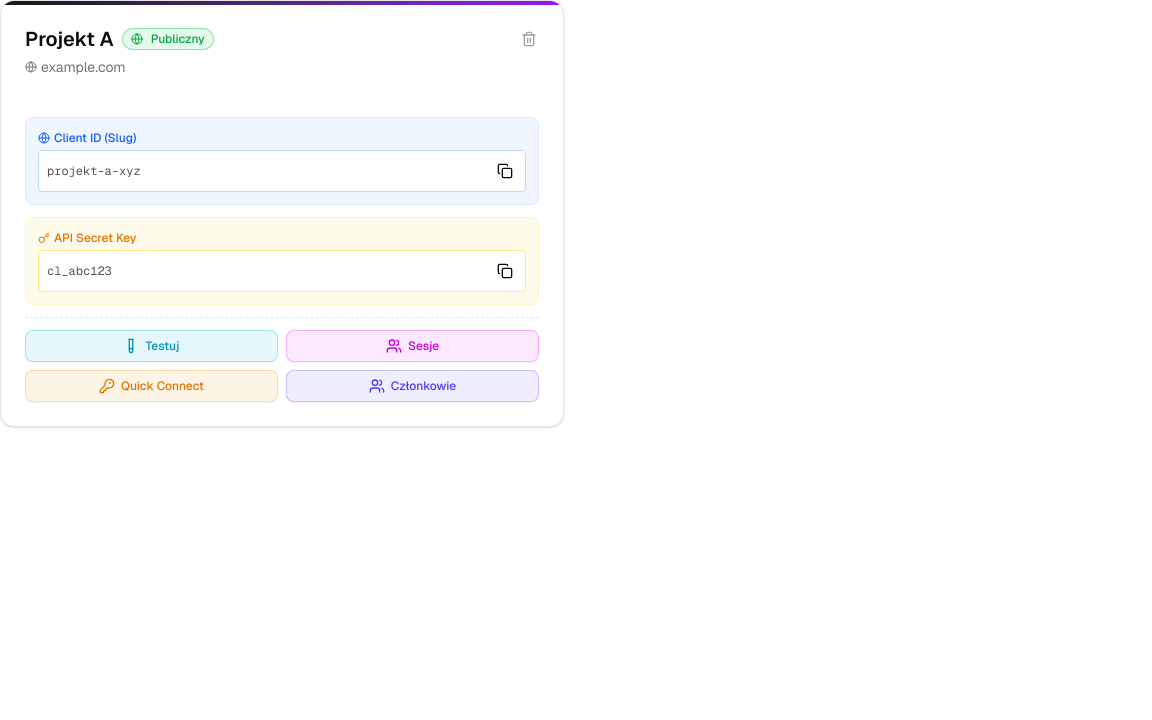
Test case: ProjectList › nie usuwa projektu po anulowaniu w modalu
The width and height of the screenshot is (1152, 720).
Otwórz modal
Click the button named "Usuń projekt" at (529, 39), box top-left (511, 21), bottom-right (547, 57)
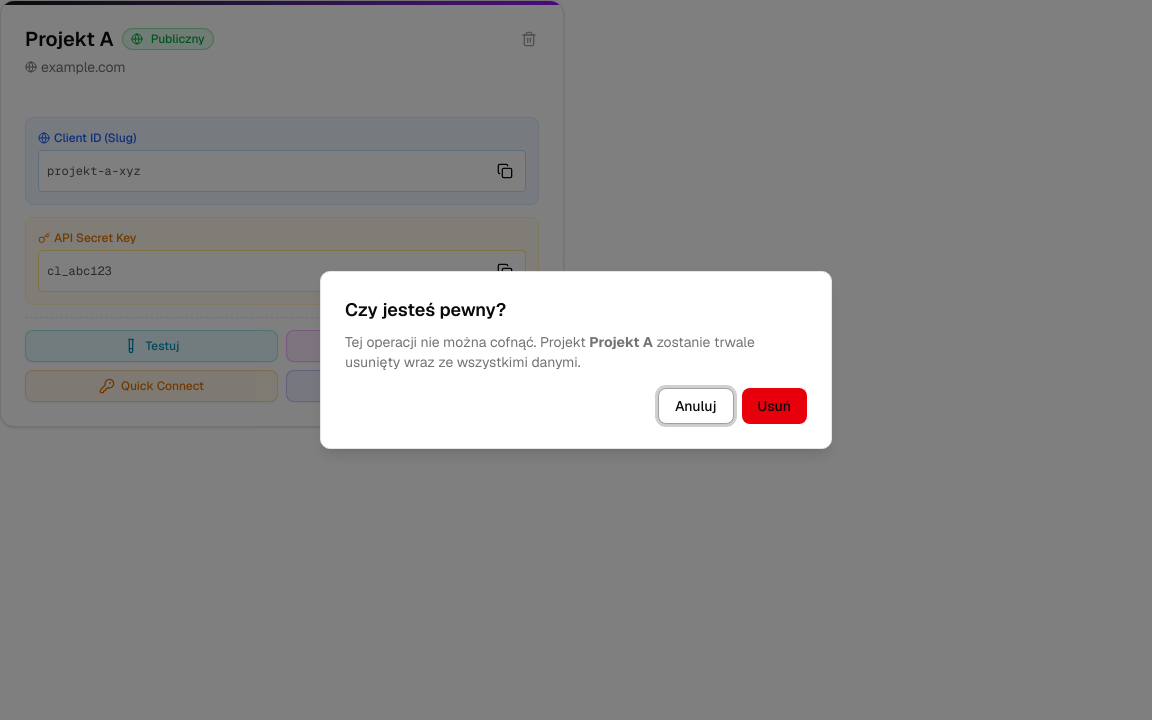
Click the button "Anuluj" at (696, 406), box top-left (658, 388), bottom-right (734, 424)
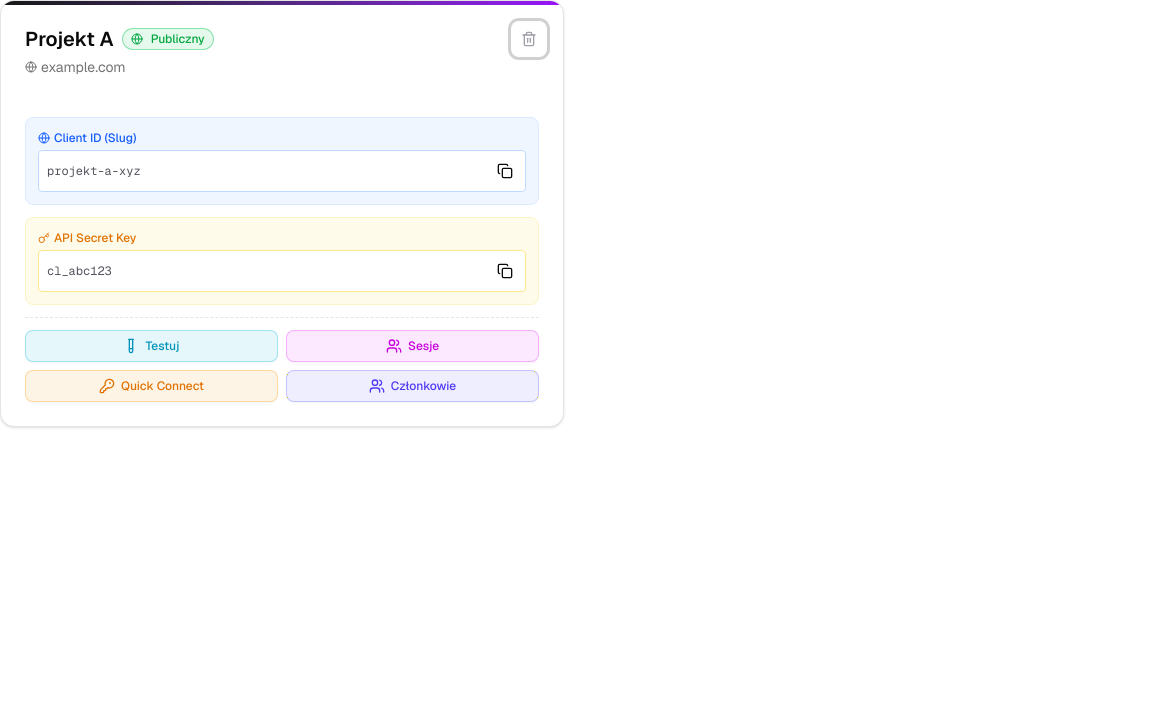
Now the dialog is gone
